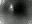person: (10, 5, 16, 16)
